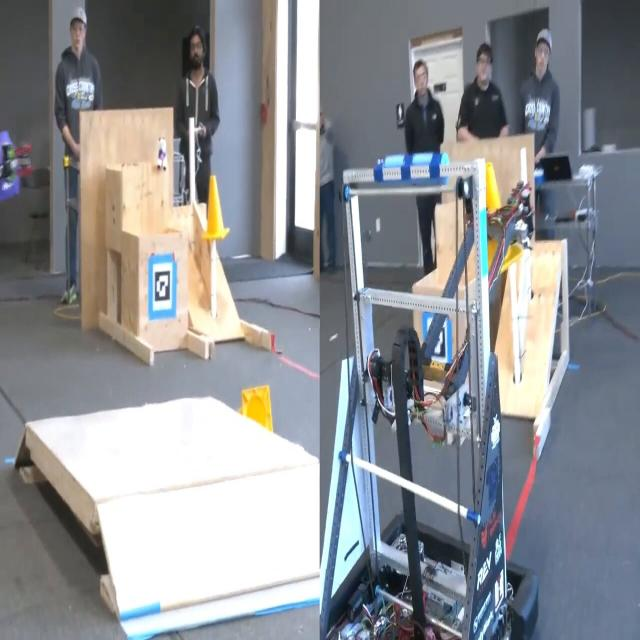frc_cone: (473, 158, 523, 279), (202, 172, 231, 242), (240, 382, 276, 434)
frc_cube: (0, 112, 23, 214)
